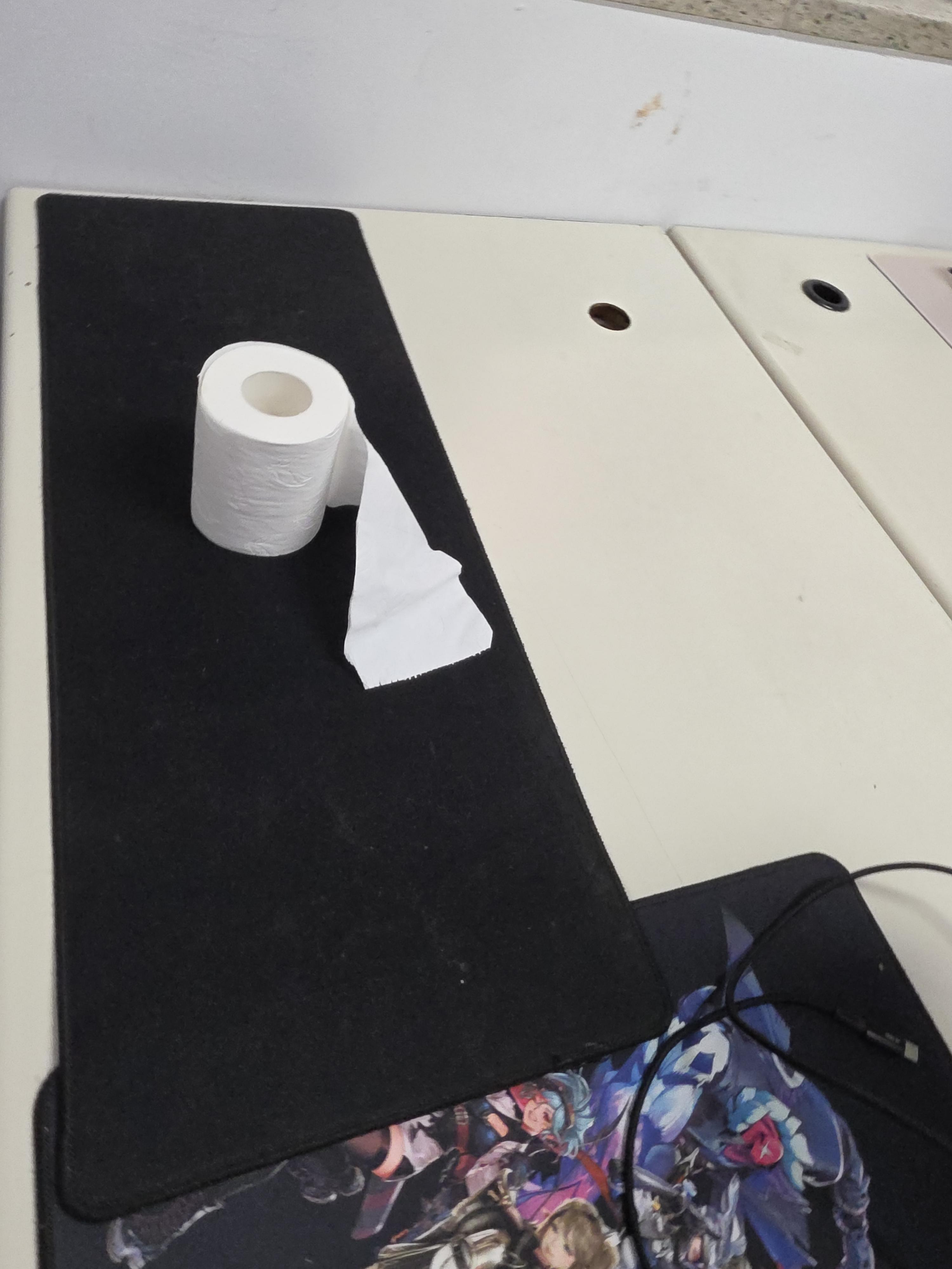tissue: (190, 341, 493, 690)
